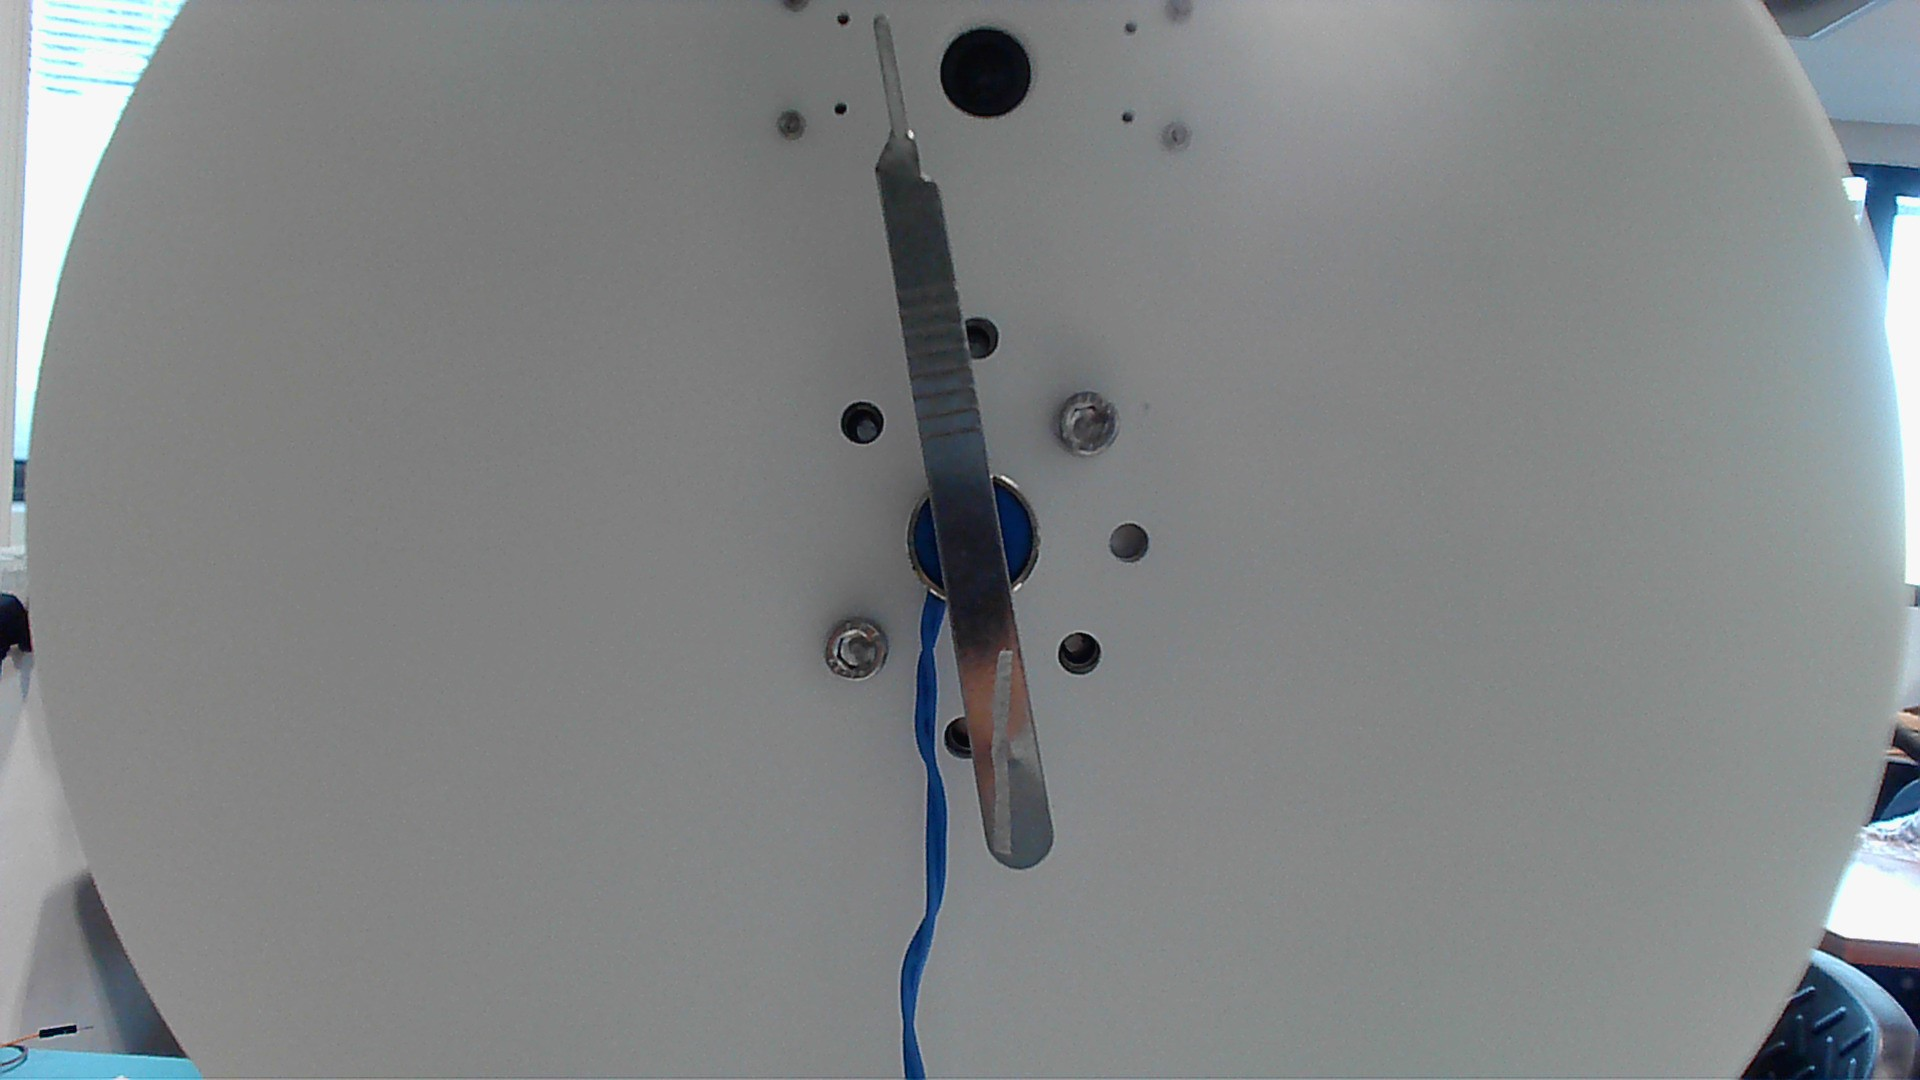Scratches: (976, 637, 1026, 864)
